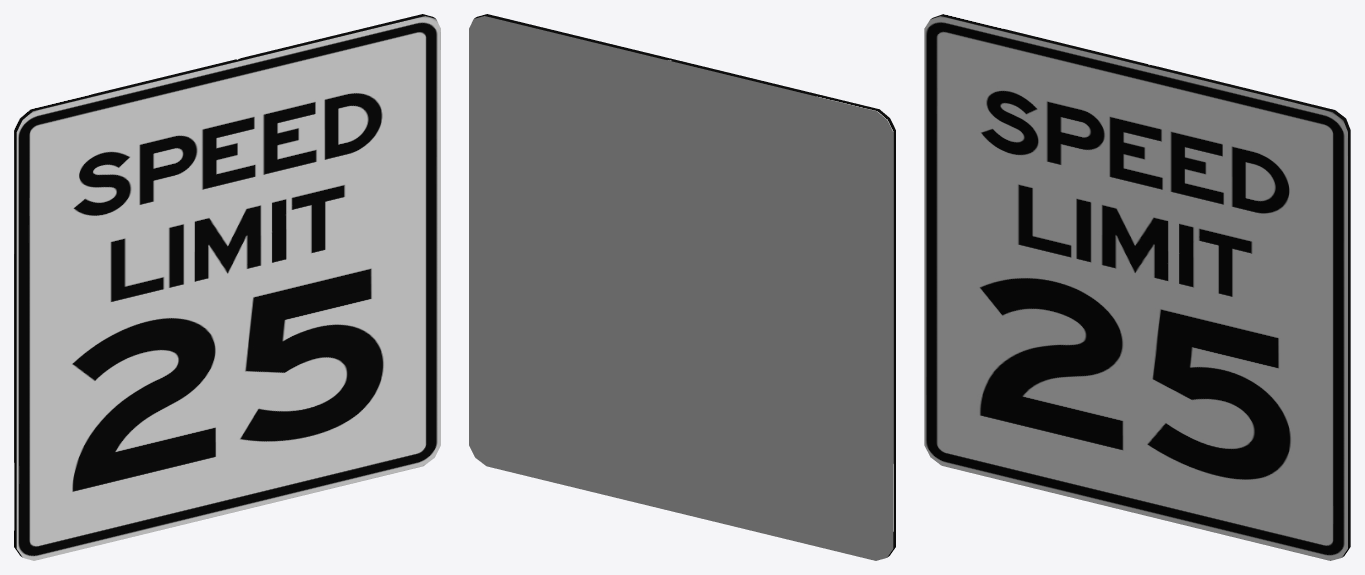
The model's file is 50Slsign.fbx.
3 renders of one model, left to right at view 1: azimuth 30°, elevation 25°; view 2: azimuth 150°, elevation 25°; view 3: azimuth 330°, elevation 25°, orthographic.
Visible parts, largest first — view 1: Sign_LOD0; view 2: Sign_LOD0; view 3: Sign_LOD0.
Part boxes in pixels (x1,y1,x2,y2): Sign_LOD0: [14, 14, 440, 560]; Sign_LOD0: [469, 14, 895, 560]; Sign_LOD0: [924, 14, 1350, 560].
Size of what is drawn, in the model's own units: 606 by 615 by 6.67.
